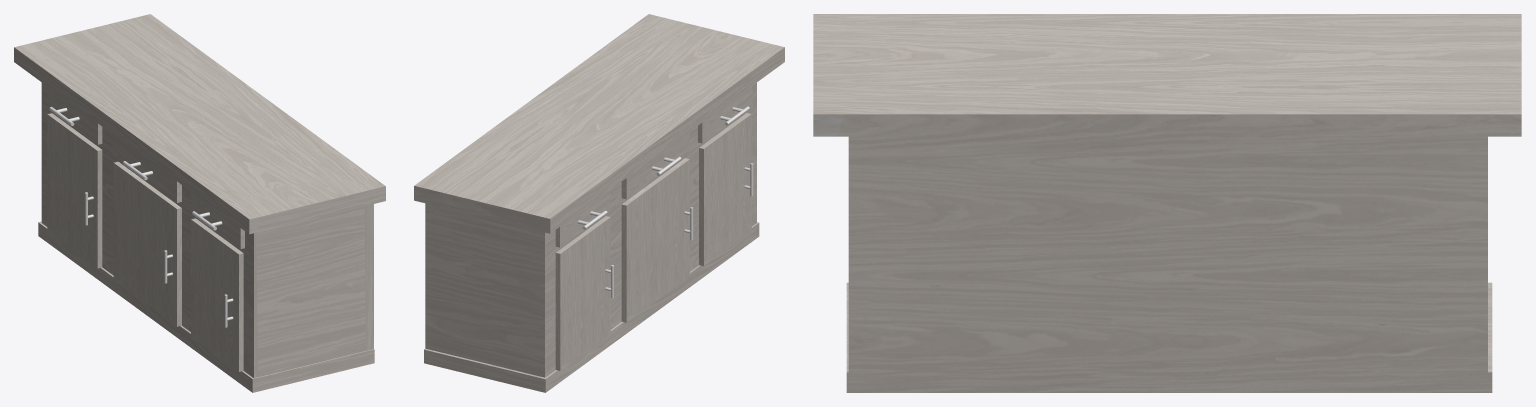
The model's file is Cabnet.fbx.
3 views of the same model, side by side, from view 1: azimuth 30°, elevation 25°; view 2: azimuth 150°, elevation 25°; view 3: azimuth 270°, elevation 25° (orthographic). The views are drawn at different scales.
Visible parts, largest first — view 1: Cabnet, Door.002, Door.001, Door.003, Draw.001, Draw.003, Draw.002; view 2: Cabnet, Door.002, Door.001, Door.003, Draw.001, Draw.003, Draw.002; view 3: Cabnet.
Part boxes in pixels (left/top/right/bottom): Cabnet: left=14, top=14, right=385, bottom=392; Door.002: left=113, top=161, right=181, bottom=326; Door.001: left=47, top=113, right=102, bottom=268; Door.003: left=191, top=218, right=243, bottom=371; Draw.001: left=113, top=135, right=181, bottom=202; Draw.003: left=47, top=87, right=102, bottom=144; Draw.002: left=190, top=191, right=244, bottom=248; Cabnet: left=414, top=14, right=784, bottom=392; Door.002: left=621, top=158, right=693, bottom=322; Door.001: left=555, top=216, right=614, bottom=370; Door.003: left=699, top=113, right=753, bottom=266; Draw.001: left=621, top=132, right=689, bottom=199; Draw.003: left=555, top=190, right=610, bottom=247; Draw.002: left=698, top=86, right=752, bottom=143; Cabnet: left=813, top=14, right=1521, bottom=392.
Size of the model in its own units: 76.45 by 98.65 by 227.
